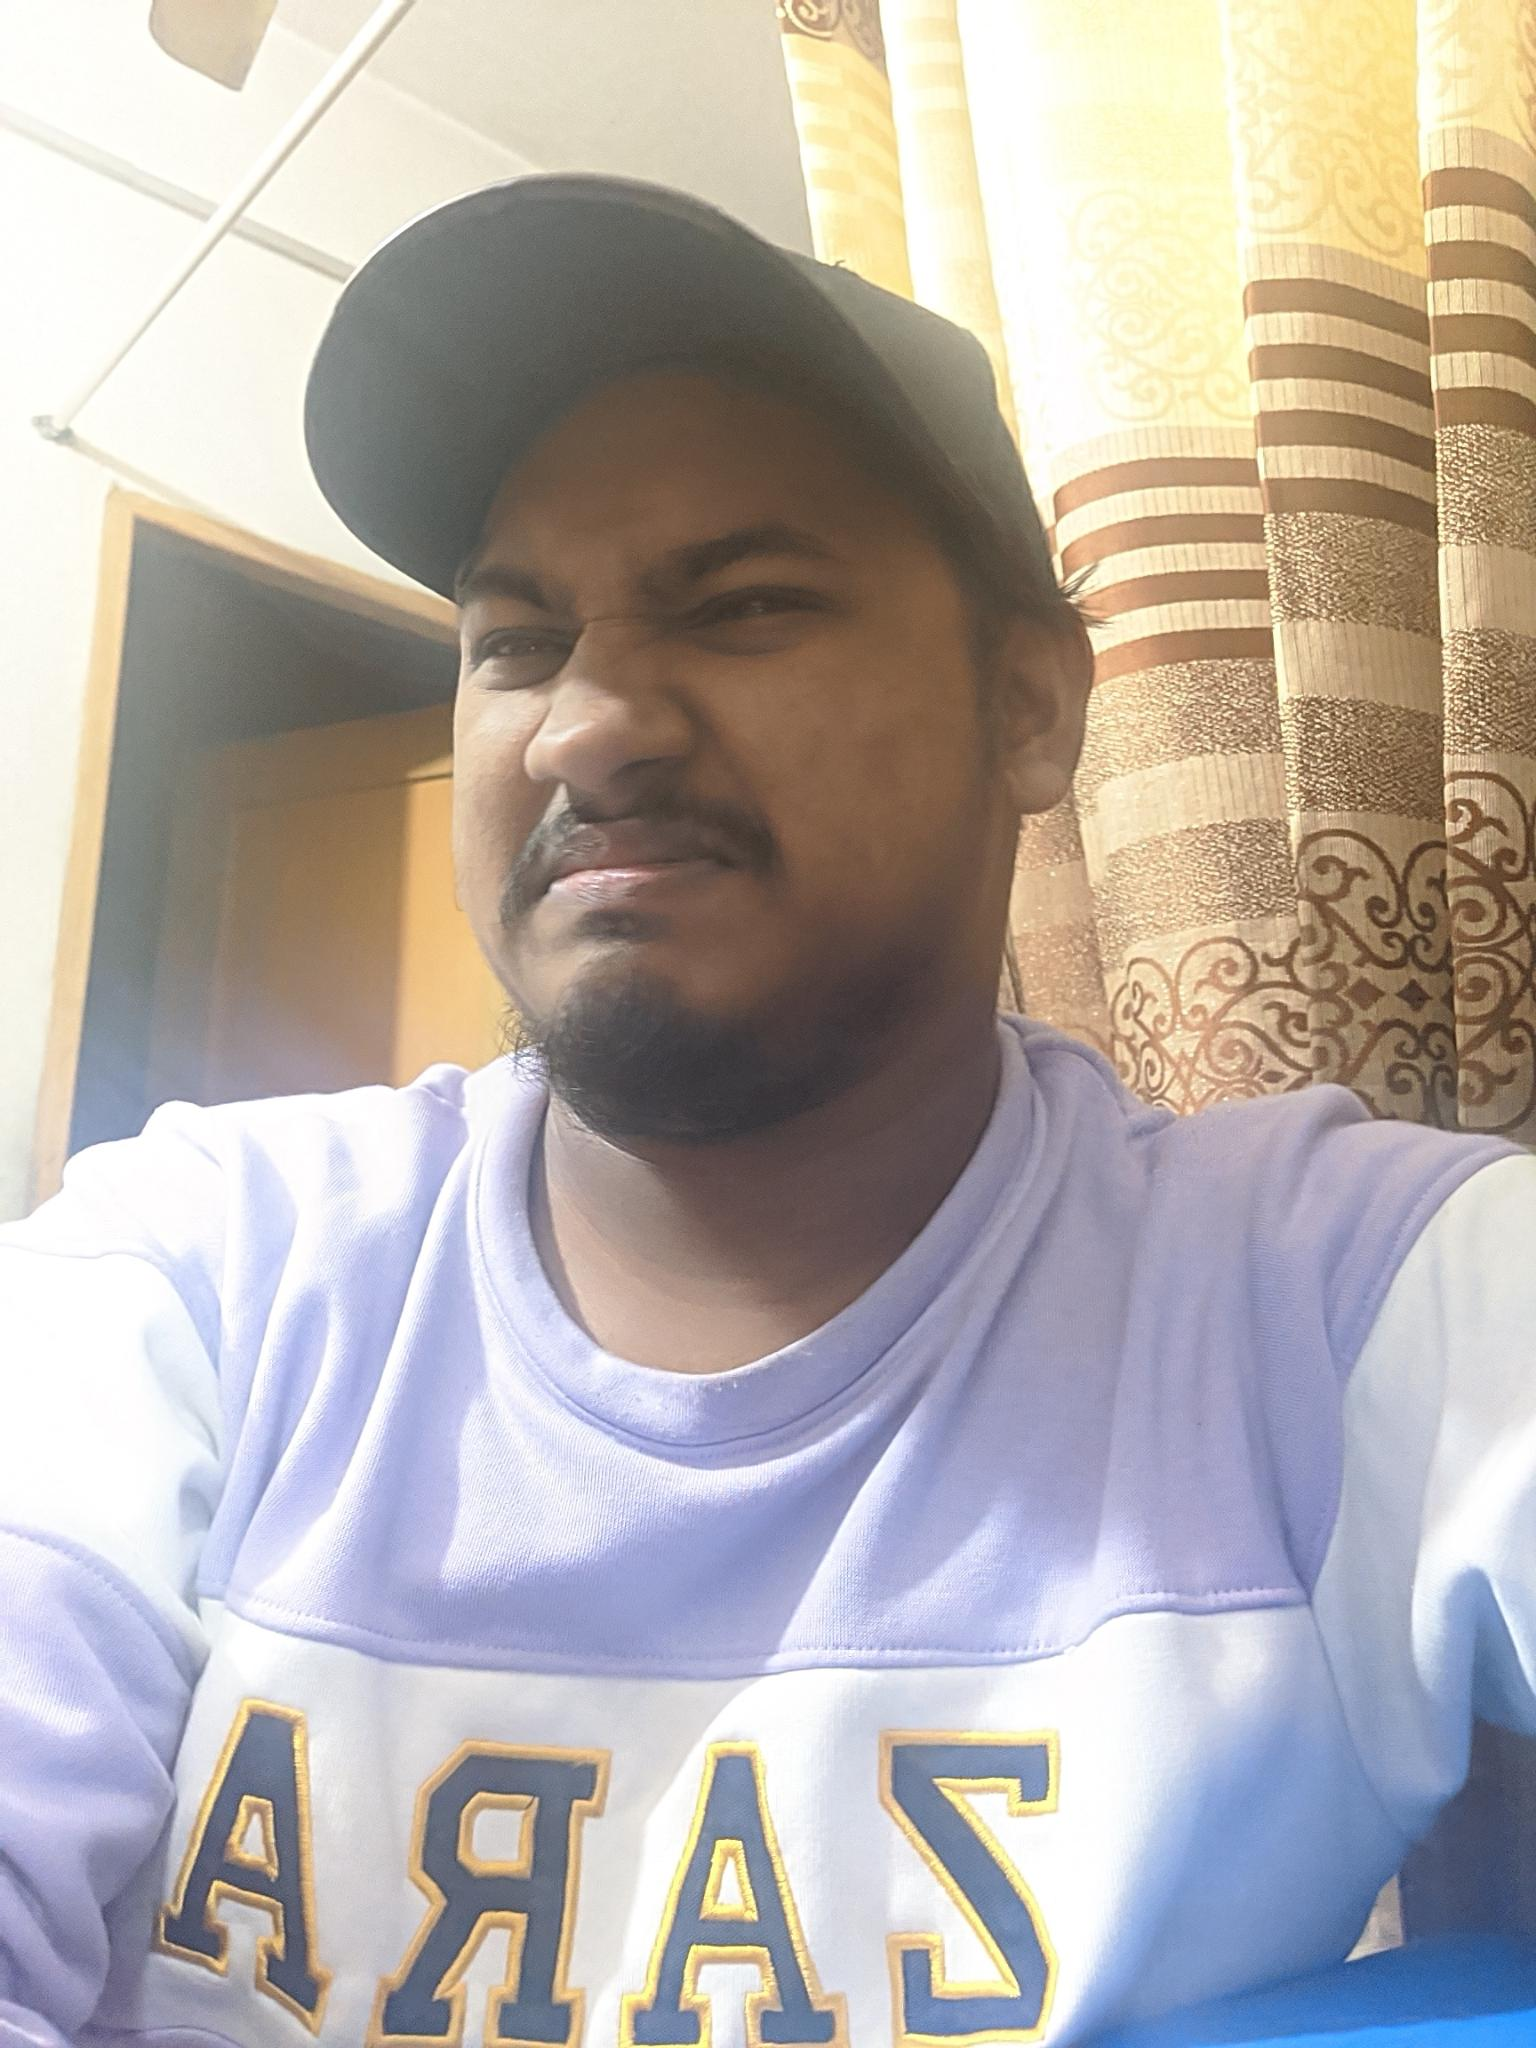Disgust: (392, 432, 952, 1098)
